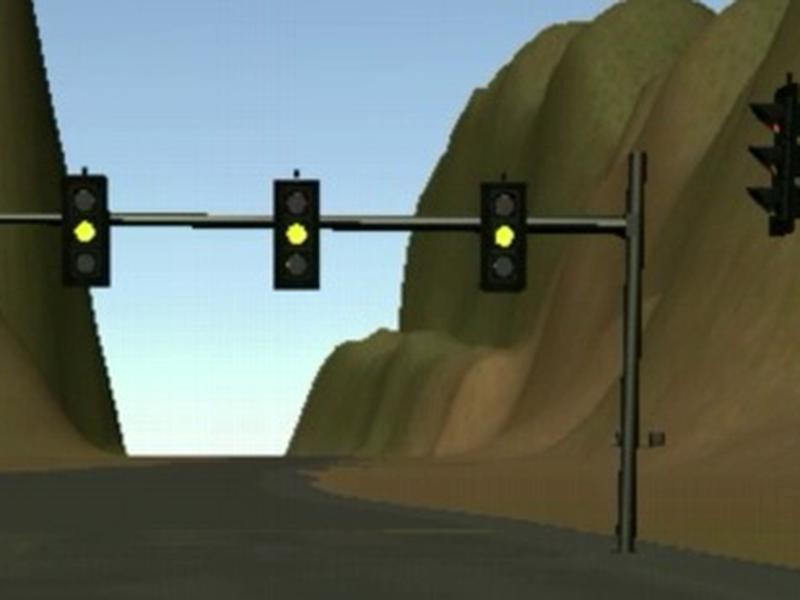Yellow: (479, 180, 529, 294), (272, 177, 321, 291), (61, 174, 110, 287)
